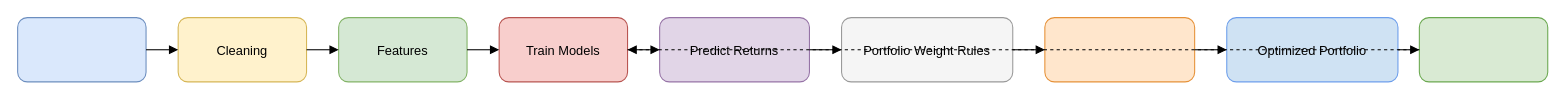
Image size: 1565x100. Some labels were removed from this diagram. Here are the shapes that lost their labels. From the top down, the box of each, then its label:
(17, 17, 146, 82): Data
(1044, 17, 1195, 82): Human Review
(1418, 17, 1548, 82): Evaluation
